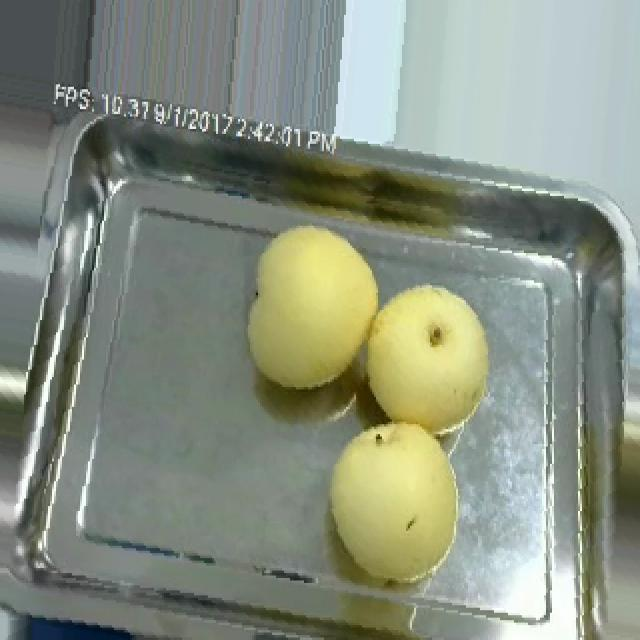Fruit: (226, 203, 398, 410), (308, 409, 472, 598), (346, 268, 506, 444)
